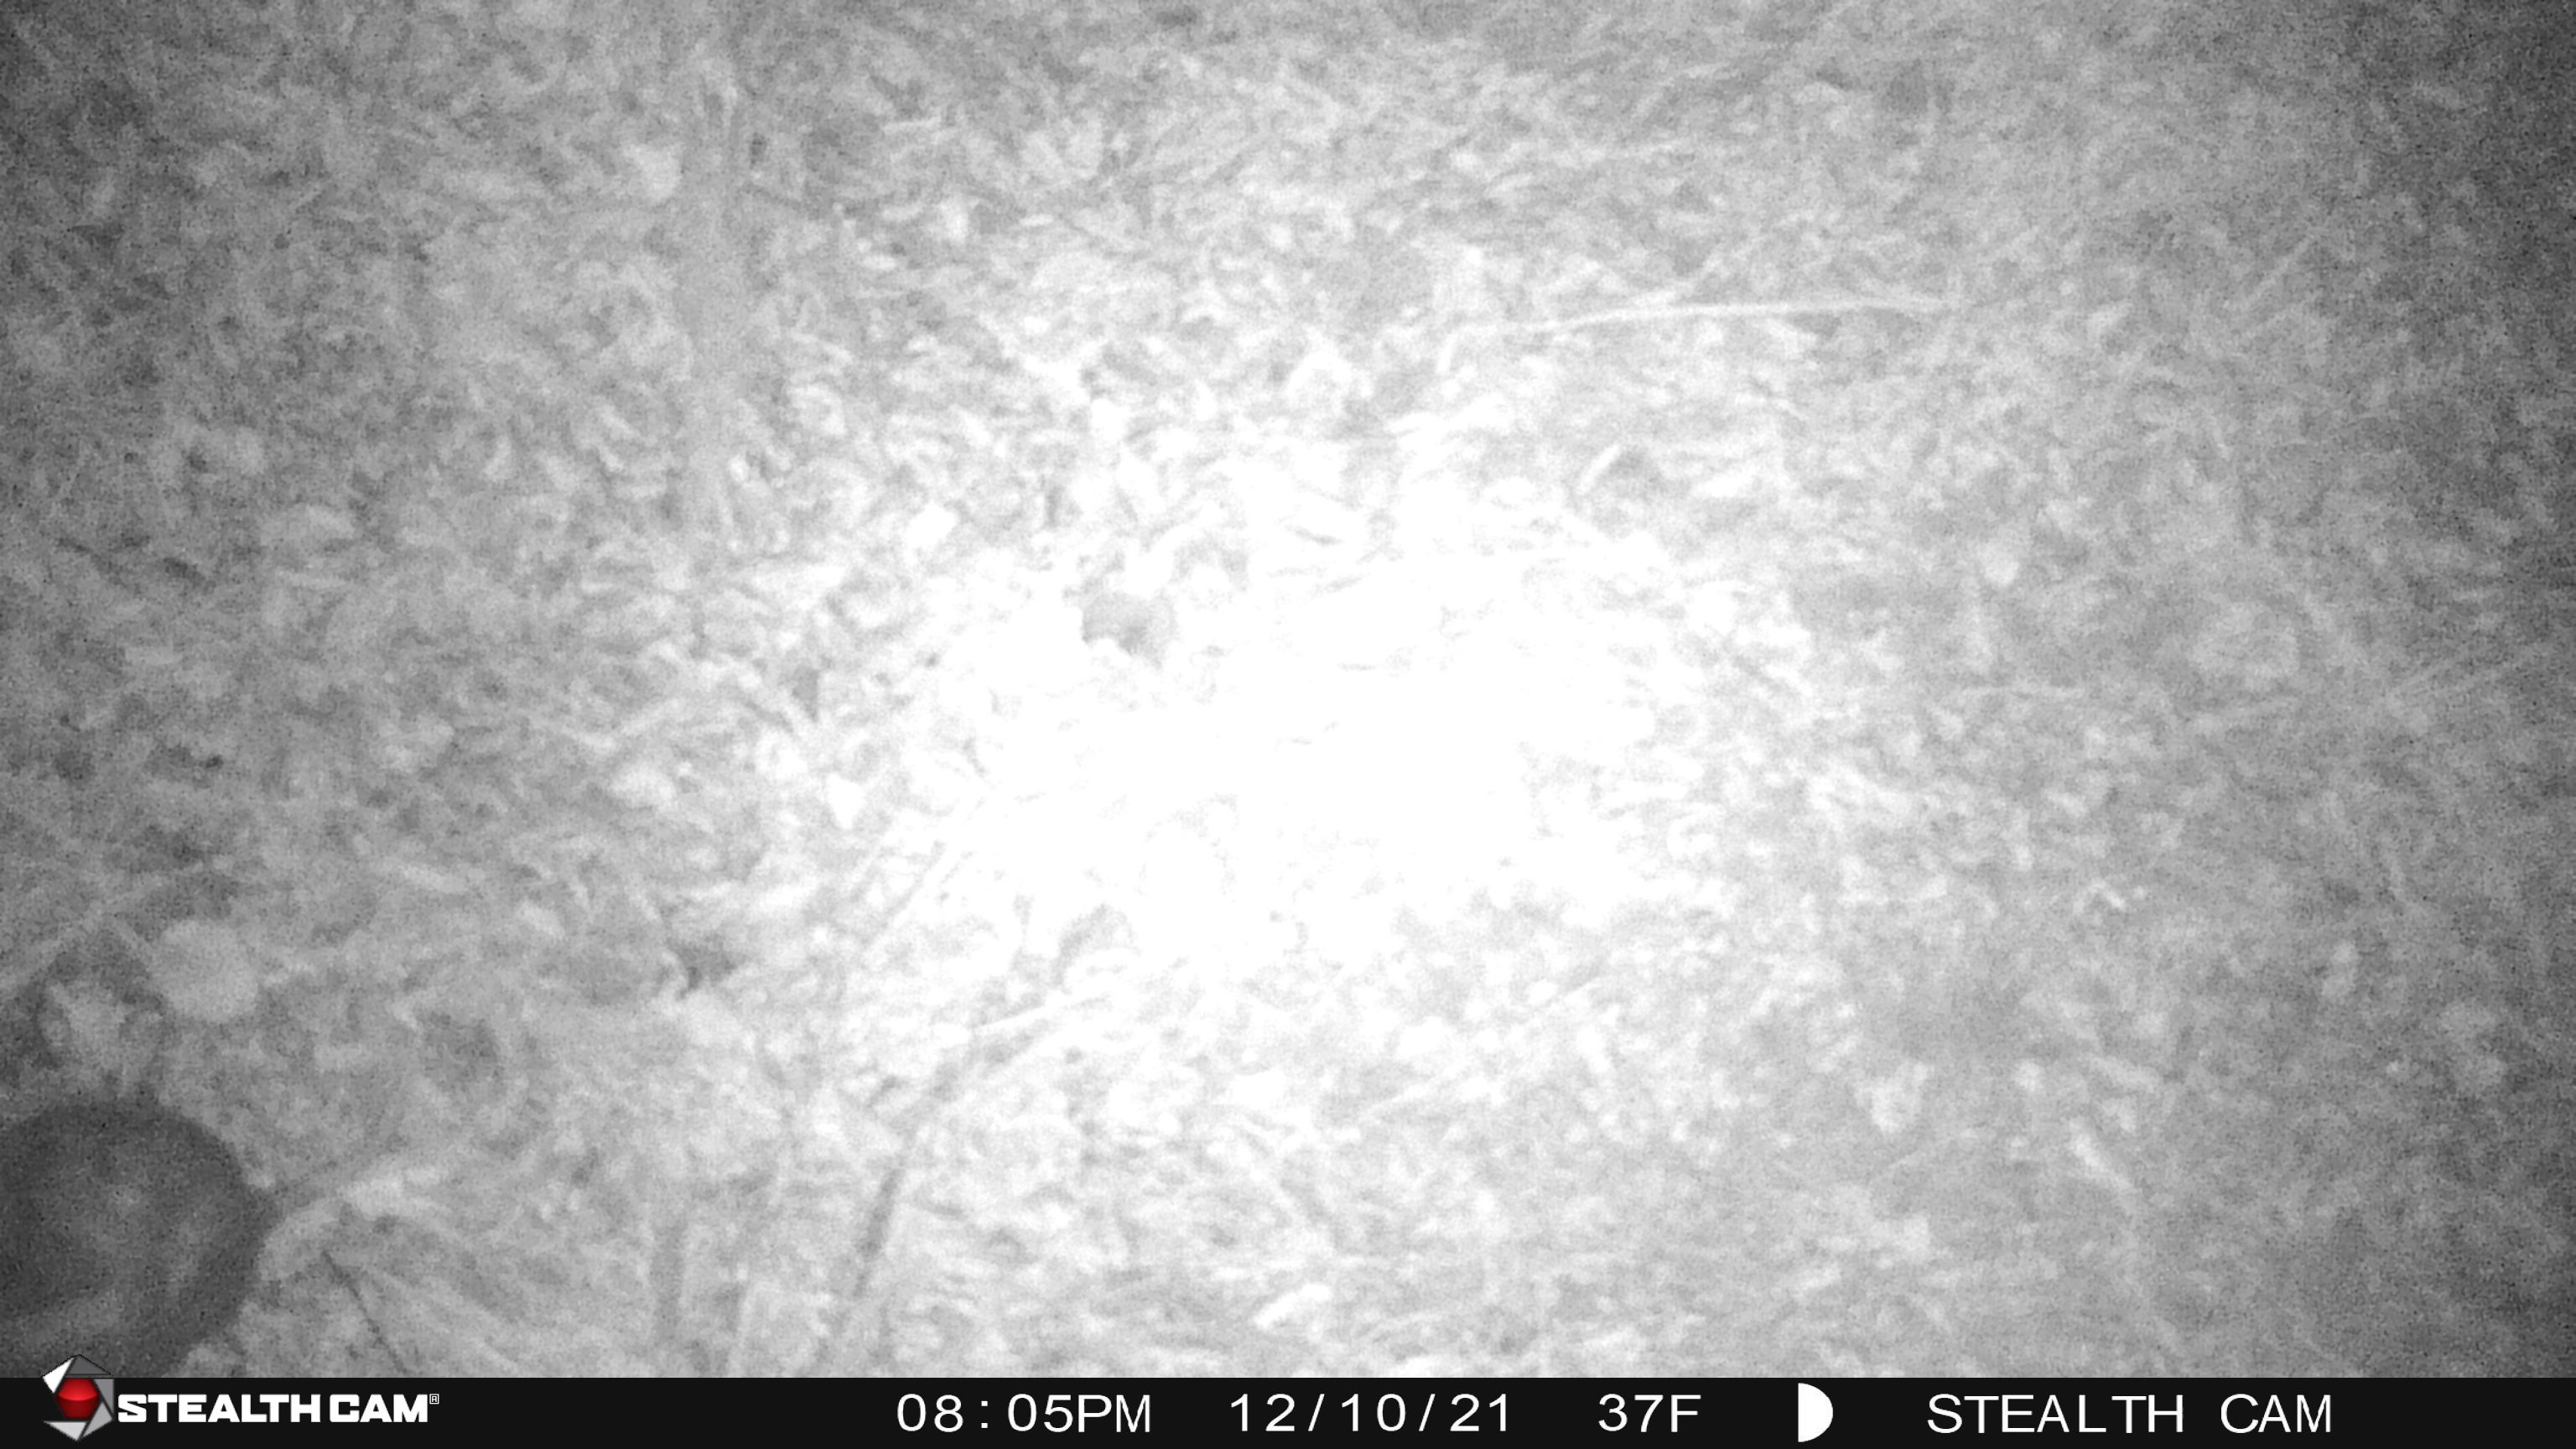Possum: (0, 1040, 423, 1376)
